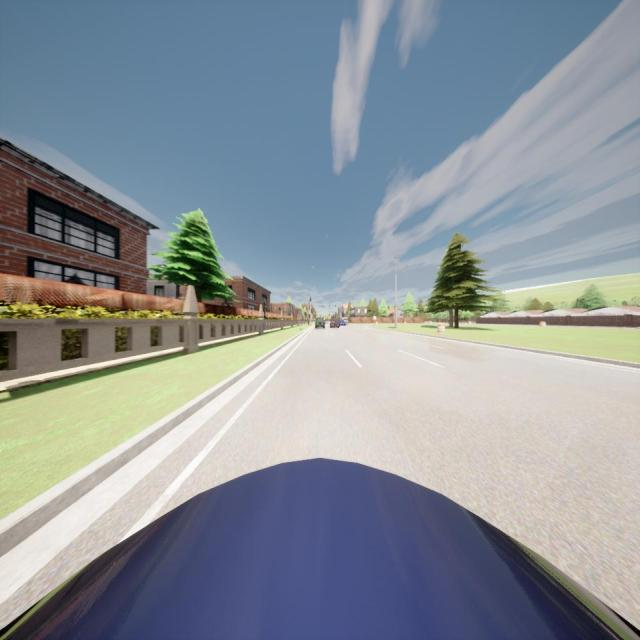Vehicle: (0, 457, 640, 640), (315, 317, 325, 329), (330, 320, 339, 328), (340, 320, 346, 327)
